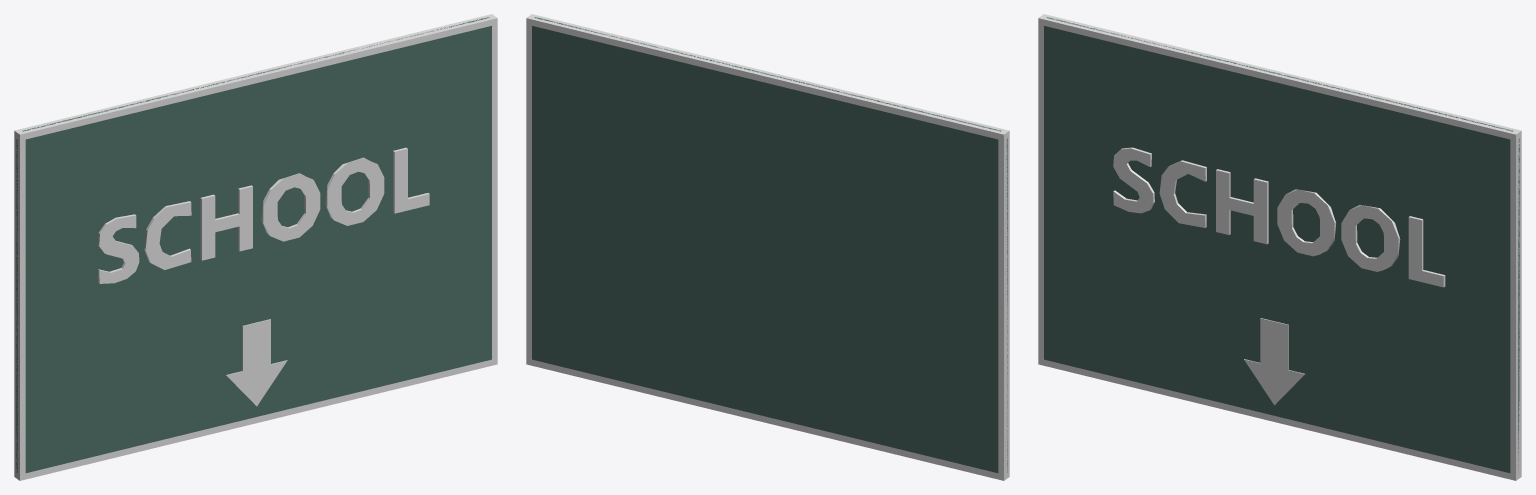
The model's file is SM_FloorProps_RoadSign_32.fbx.
3 renders of one model, left to right at view 1: azimuth 30°, elevation 25°; view 2: azimuth 150°, elevation 25°; view 3: azimuth 330°, elevation 25°, orthographic.
Parts seen in each view (by area): view 1: SM_FloorProps_RoadSign_32; view 2: SM_FloorProps_RoadSign_32; view 3: SM_FloorProps_RoadSign_32.
Boxes of the visible parts, <box> form: SM_FloorProps_RoadSign_32: <box>14,14,497,480</box>; SM_FloorProps_RoadSign_32: <box>526,14,1009,480</box>; SM_FloorProps_RoadSign_32: <box>1038,14,1521,480</box>.
Size of the model in its own units: 2.33 by 1.61 by 0.0661.
